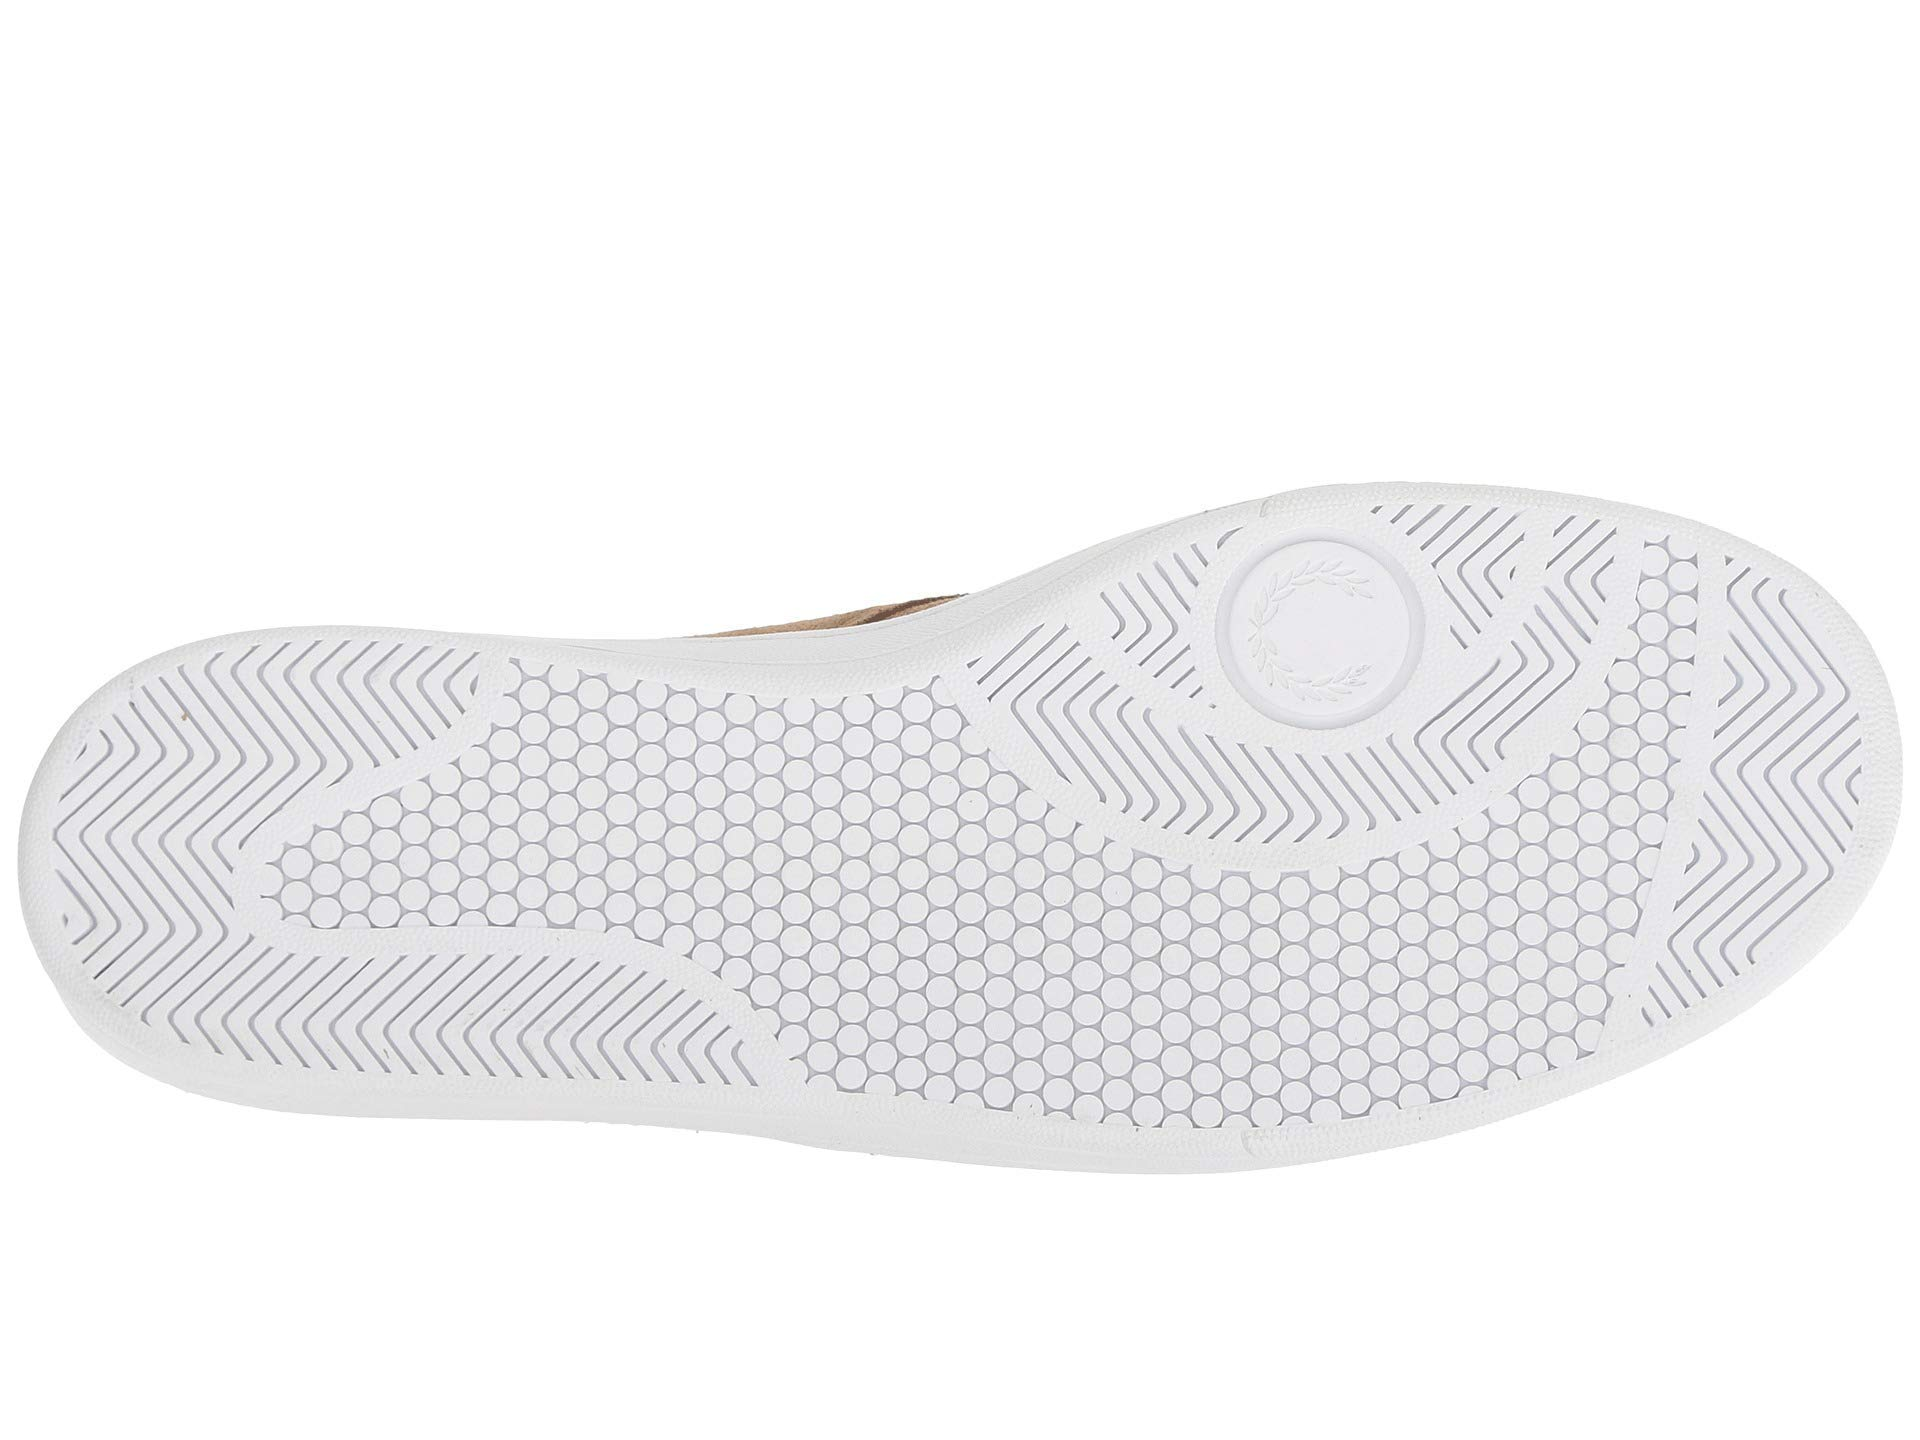chevron: (1175, 520, 1504, 796), (98, 714, 311, 936), (1736, 687, 1881, 885)
circle: (1175, 520, 1504, 796), (807, 861, 1129, 1142), (516, 678, 756, 954), (98, 714, 311, 936)
